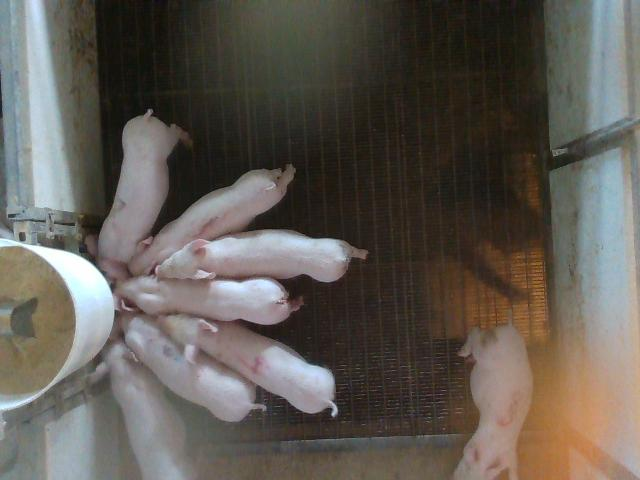pig-1: (129, 164, 296, 276)
pig-3: (454, 324, 532, 479)
pig-4: (158, 314, 338, 416)
